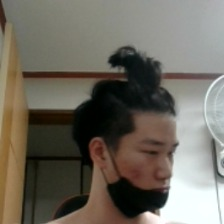OffMask: (84, 158, 185, 213)
